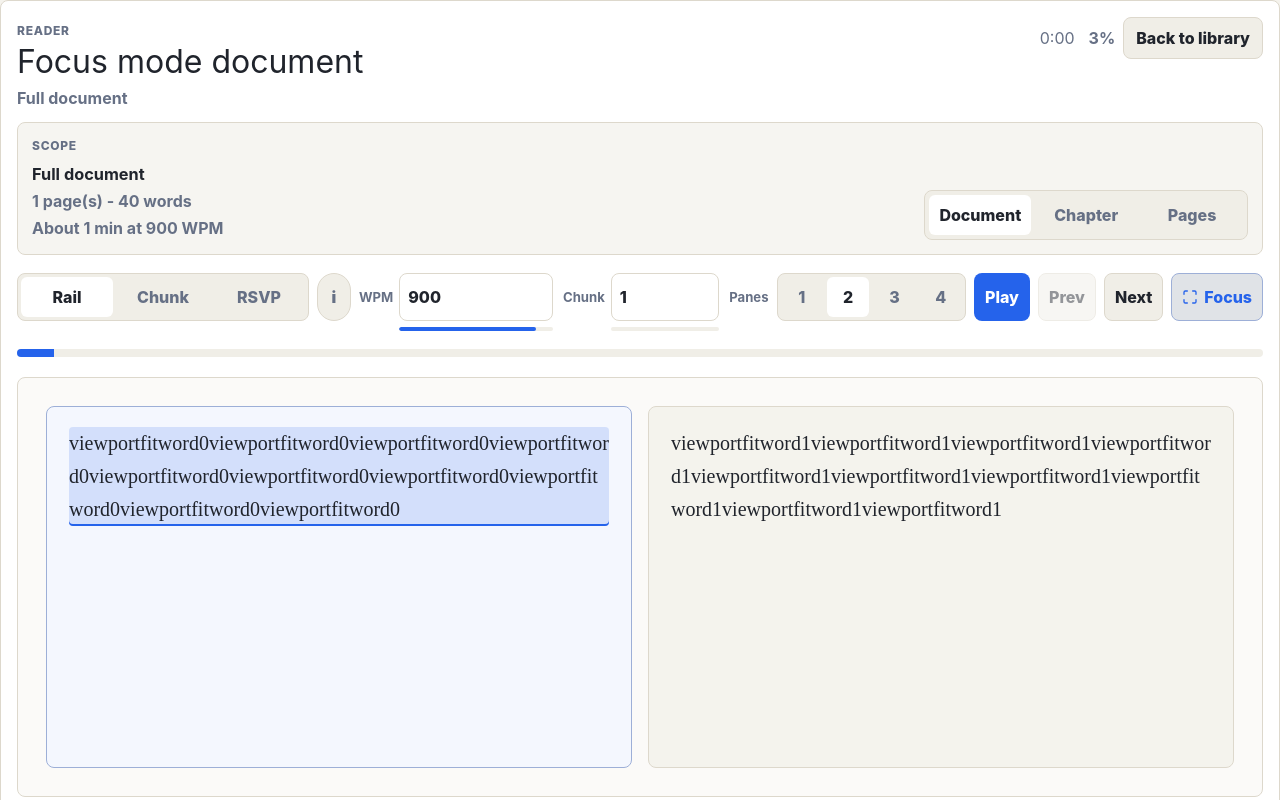
it: ReaderRail virtual panes › advances the visible pane window as playback moves the active chunk
Click the button "Play": (1002, 297) [974,273,1030,321]
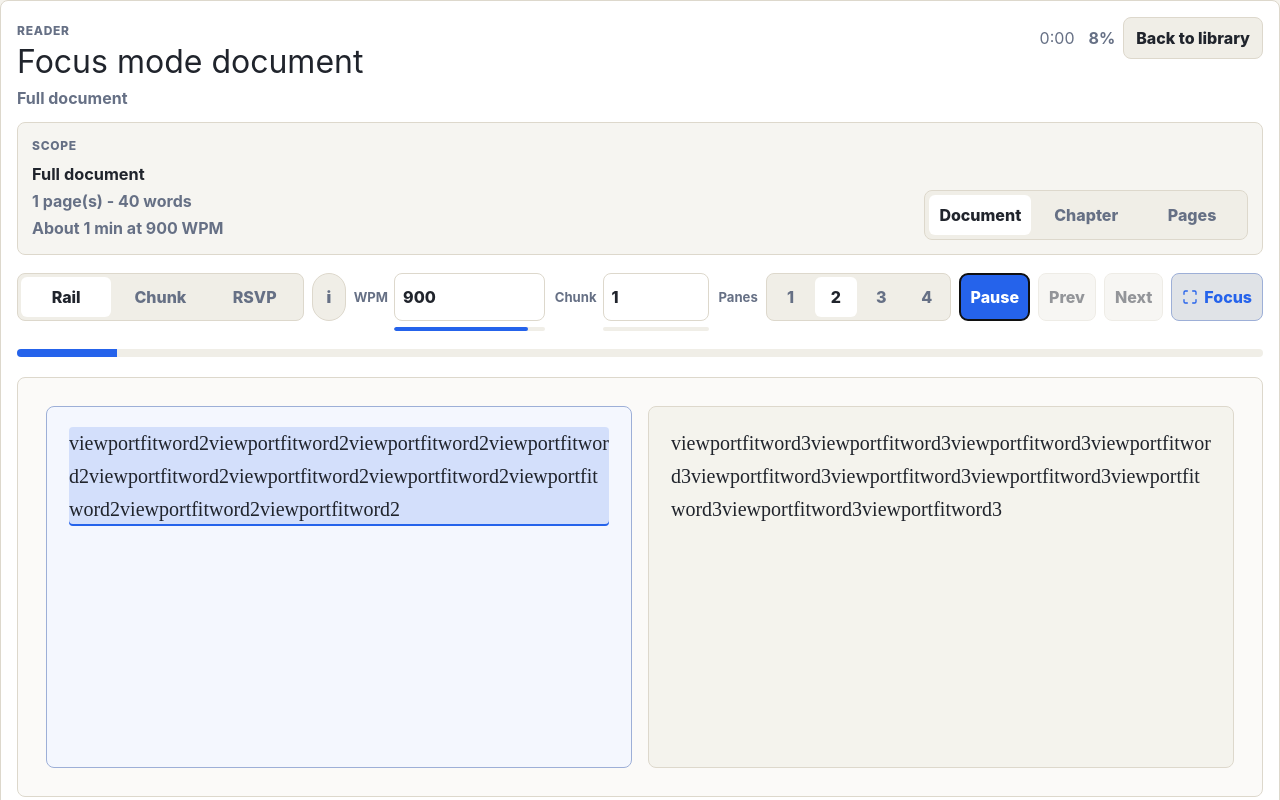
expect the button with class "active-chunk" shows "viewportfitword": met, box [69,427,609,526]
expect the button "viewportfitword0" is gone: met
